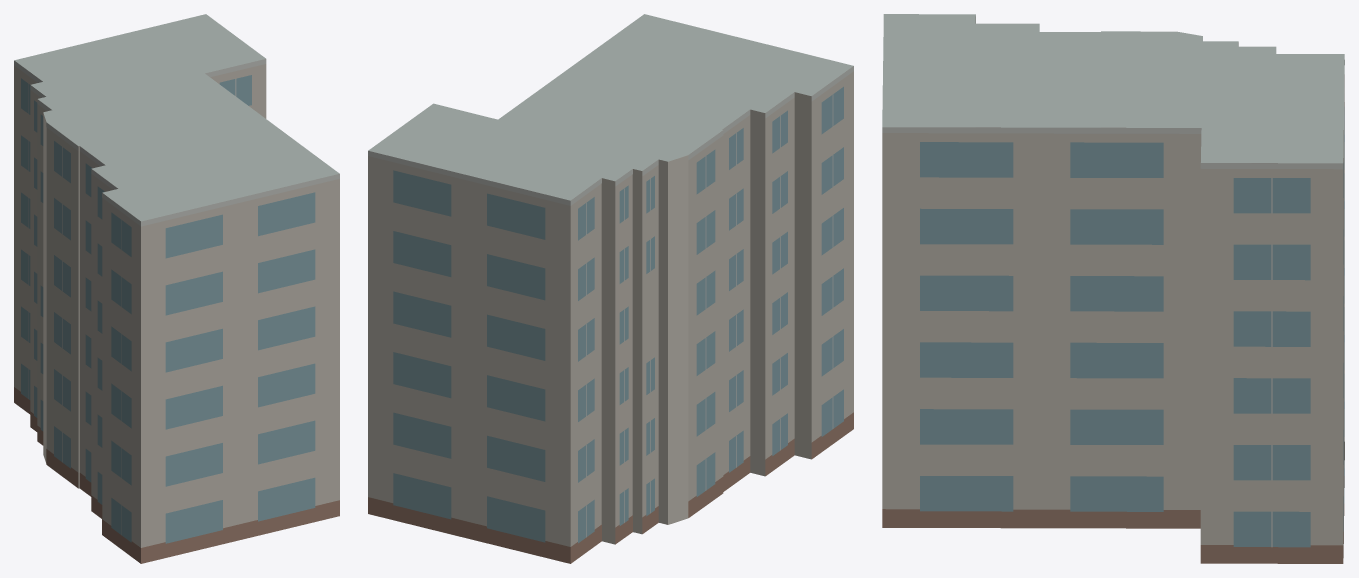
The model's file is survey-upis-32747602.glb.
3 renders of one model, left to right at view 1: azimuth 30°, elevation 25°; view 2: azimuth 150°, elevation 25°; view 3: azimuth 270°, elevation 25°, orthographic. The views are drawn at different scales.
Visible parts, largest first — view 1: survey-upis-32747602.tmp; view 2: survey-upis-32747602.tmp; view 3: survey-upis-32747602.tmp.
Part boxes in pixels (left/top/right/bottom): survey-upis-32747602.tmp: left=14, top=14, right=339, bottom=563; survey-upis-32747602.tmp: left=368, top=14, right=853, bottom=563; survey-upis-32747602.tmp: left=882, top=14, right=1344, bottom=563.
Size of the model in its own units: 13.28 by 16.6 by 17.38.
